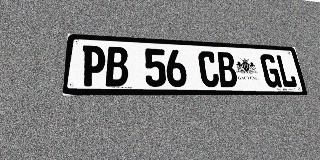5: (145, 48, 167, 87)
6: (165, 49, 188, 87)
B: (105, 46, 128, 87), (216, 52, 238, 87)
C: (197, 51, 220, 87)
G: (259, 54, 282, 88)
L: (275, 55, 298, 88)
P: (81, 45, 105, 86)
